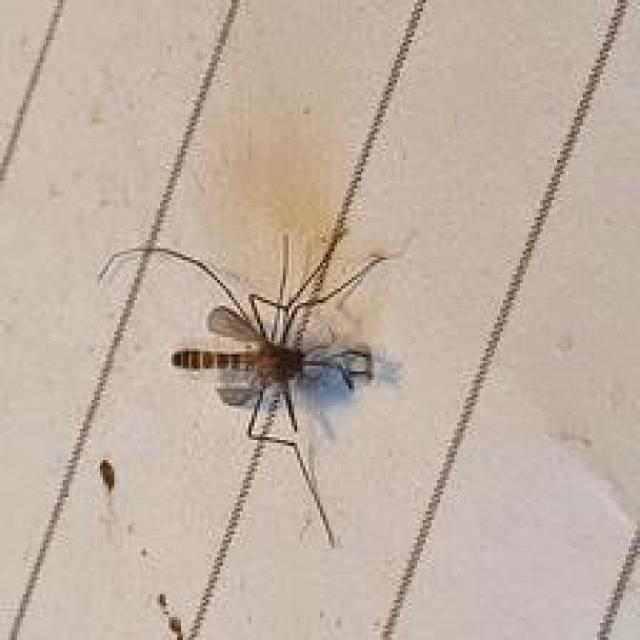Culex: (97, 224, 412, 550)
